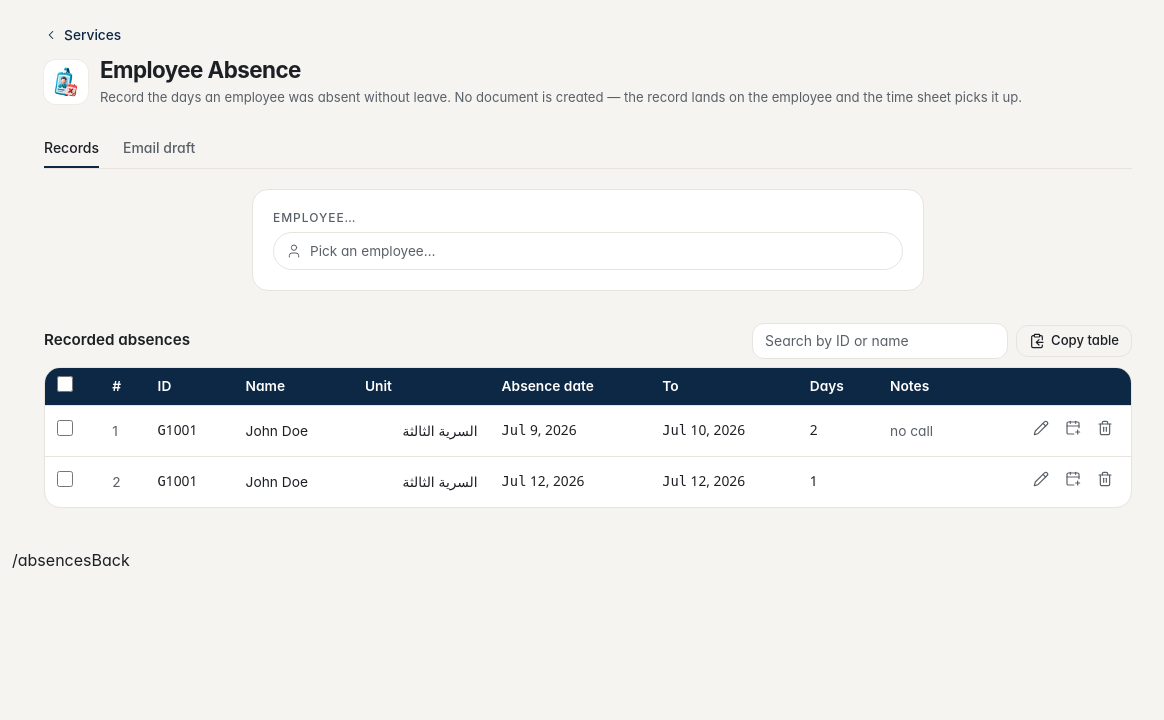
Scenario: AbsencesPage › filters the register by ID or name
The width and height of the screenshot is (1164, 720).
Type "G1001" into the search field labelled "Search by ID or name" at (880, 341), box [752, 323, 1008, 359]
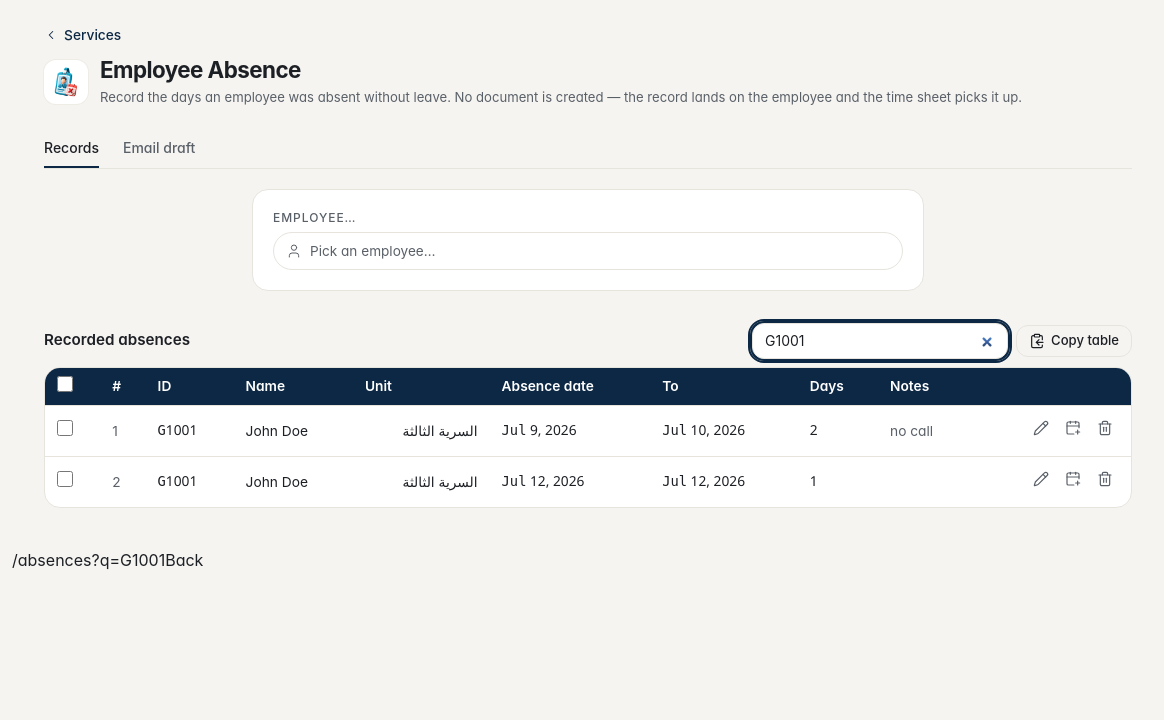
Expected: the text "G1001" is shown 2 times, [146, 406, 234, 457]; [146, 457, 234, 507]
Replace the text in the search field named "Search by ID or name" with "John Doe" at (880, 341), box [752, 323, 1008, 359]
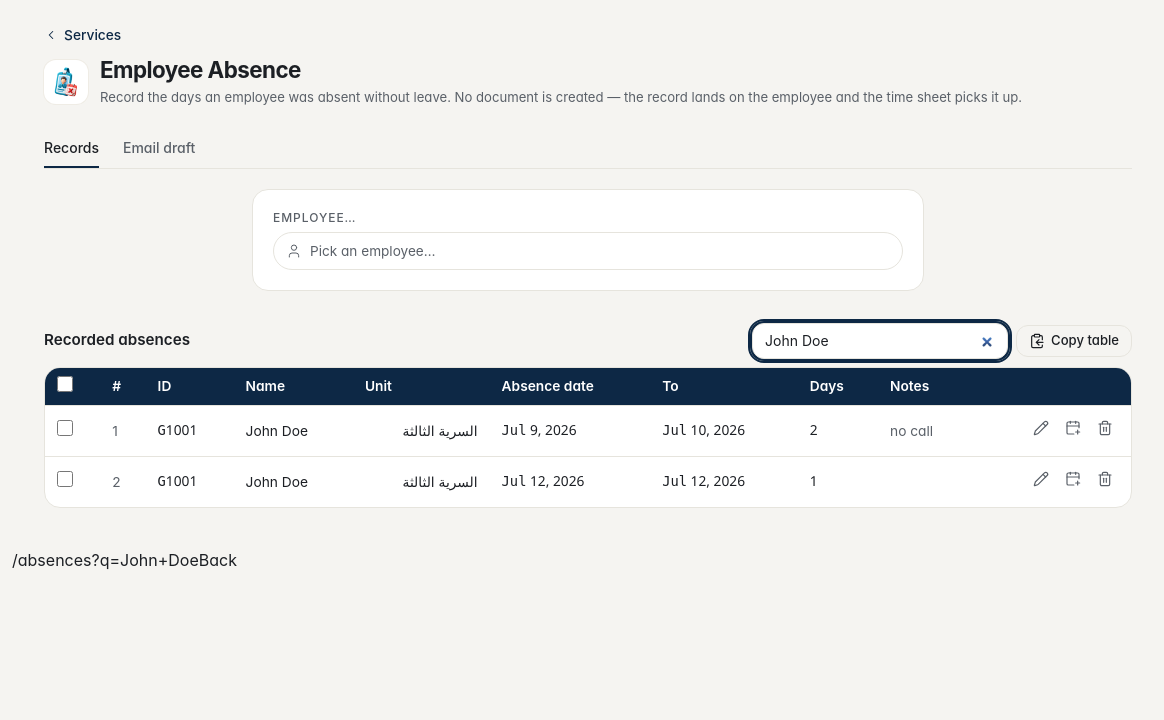
Expected: the text "John Doe" is shown 2 times, [234, 406, 353, 457]; [234, 457, 353, 507]
Replace the text in the search field named "Search by ID or name" with "zzz" at (880, 341), box [752, 323, 1008, 359]
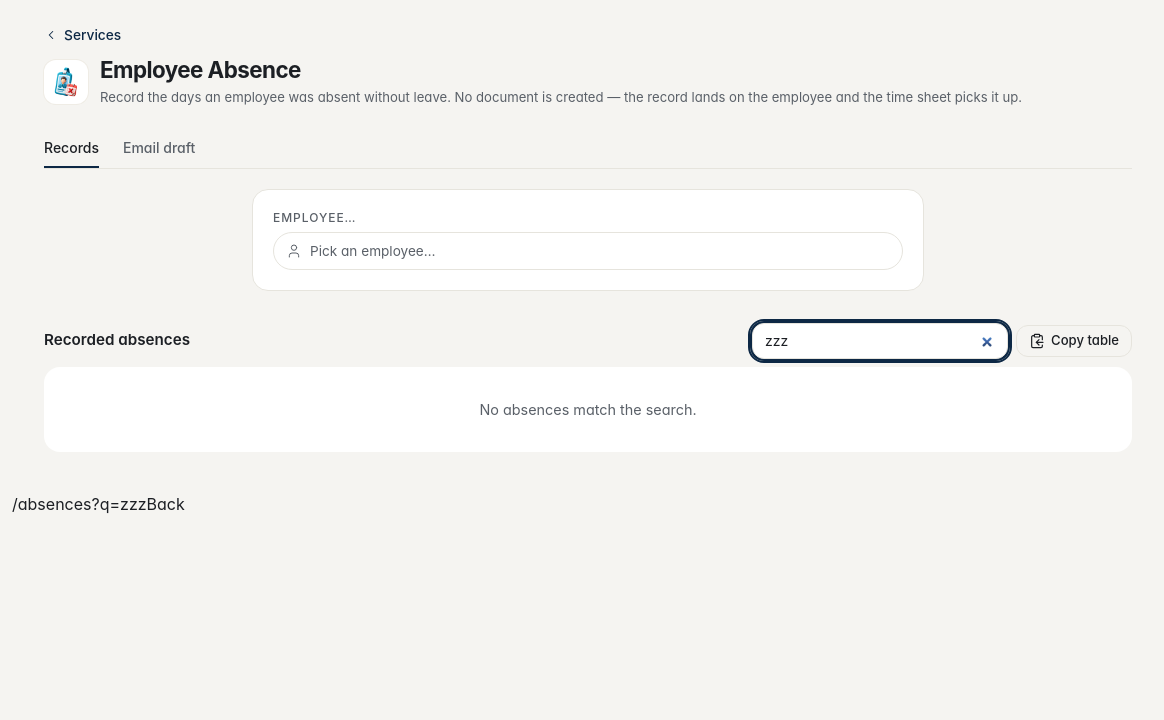
Expected: the text "No absences match the search." is shown, [44, 367, 1132, 452]
